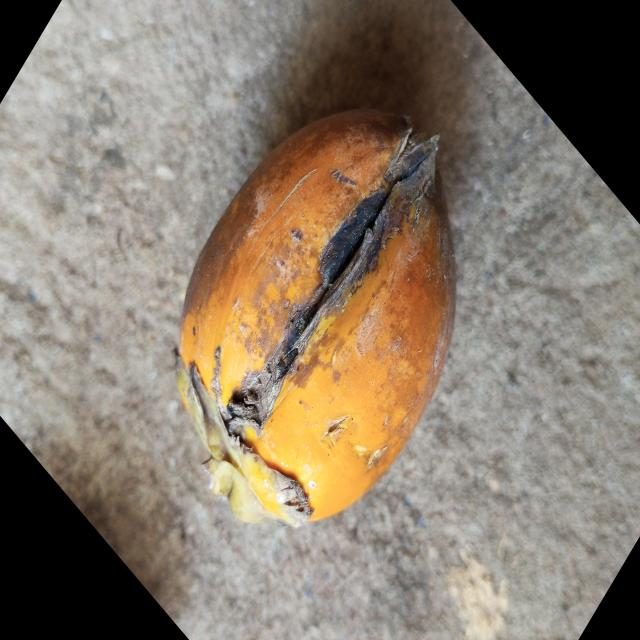damaged: (177, 110, 455, 526)
